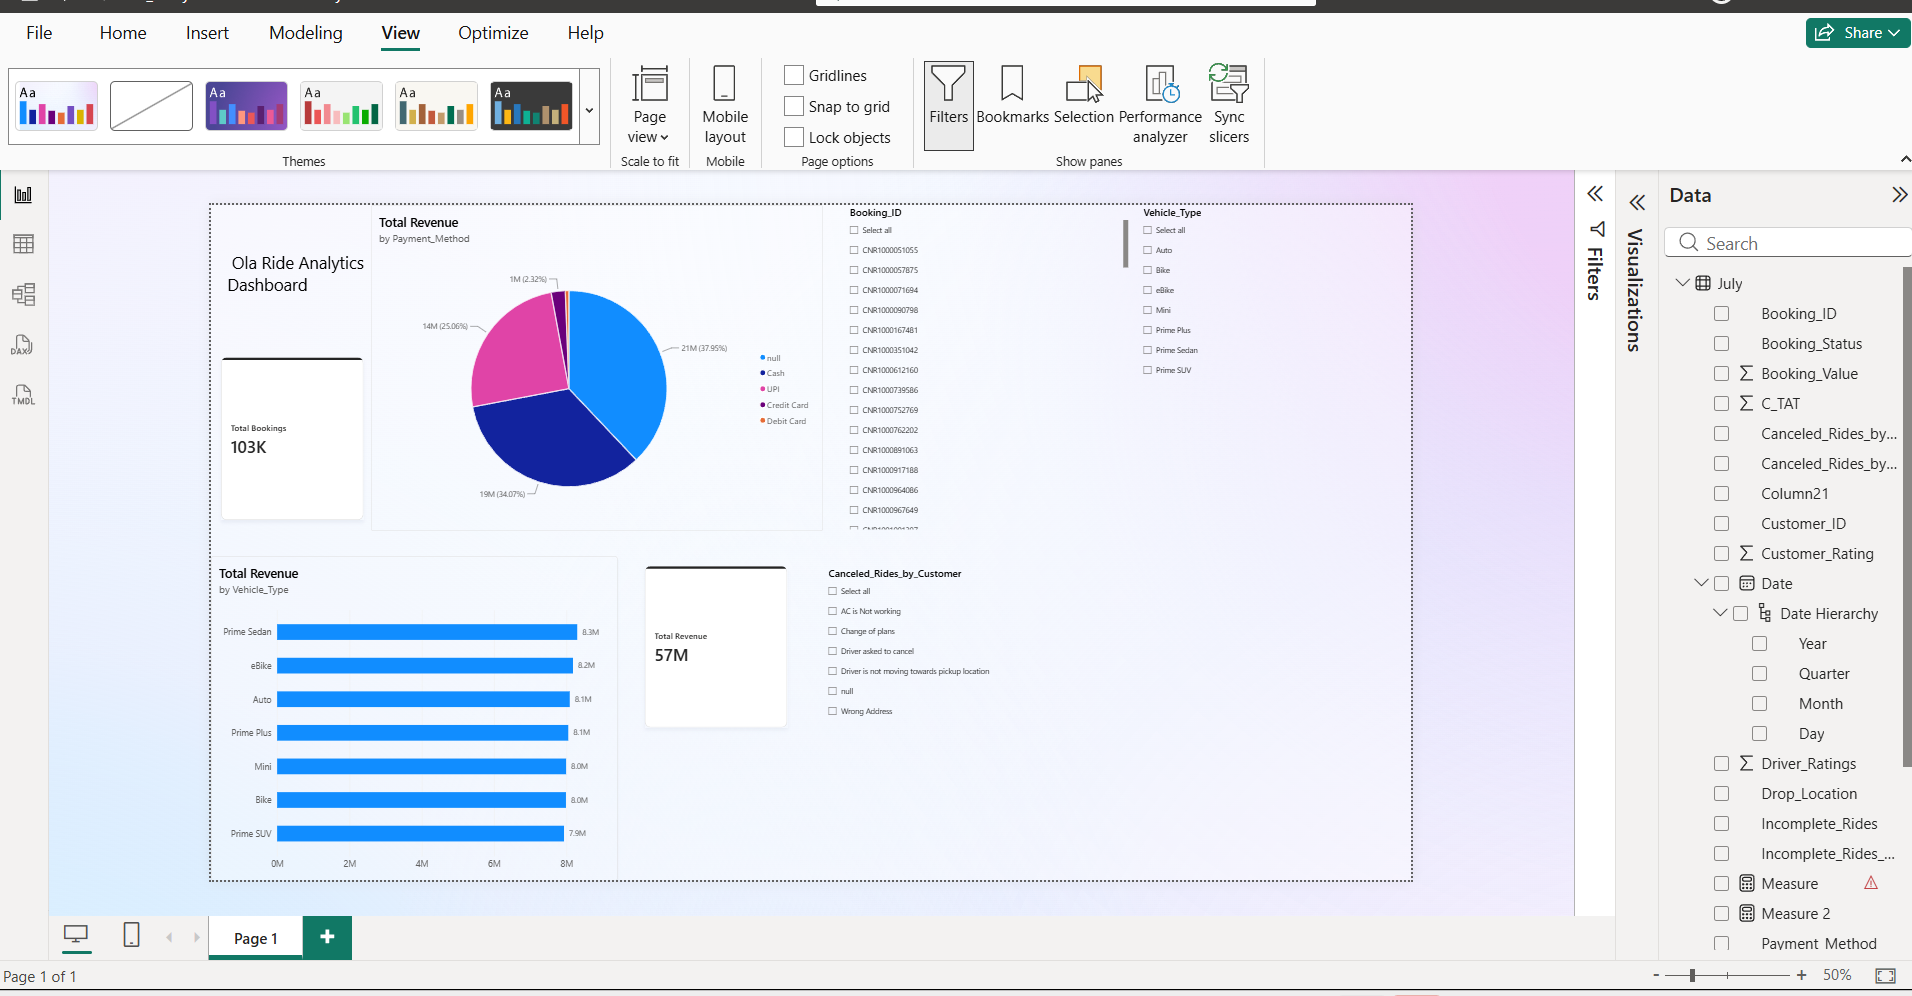

What the dashboard file says about the page in this screenshot:
{"tool":"powerbi","page":{"name":"Page 1","canvas":[1920,1080],"ordinal":0},"visuals":[{"type":"cardVisual","fields":{"Data":["July.Total Revenue"]},"box":[693.1,578.7,228.9,258.6],"z":0},{"type":"cardVisual","fields":{"Data":["July.Total Bookings"]},"box":[17,243.8,228.9,260.7],"z":1000},{"type":"clusteredBarChart","fields":{"Y":["July.Total Revenue"],"Category":["July.Vehicle_Type"]},"box":[0,561.7,650.7,519.3],"z":2000},{"type":"pieChart","fields":{"Y":["July.Total Revenue"],"Category":["July.Payment_Method"]},"box":[256.5,0,722.8,521.4],"z":3000},{"type":"slicer","fields":{"Values":["July.Booking_ID"]},"box":[1013.2,0,453.6,519.3],"z":4000},{"type":"slicer","fields":{"Values":["July.Vehicle_Type"]},"box":[1483.8,0,436.7,303.1],"z":5000},{"type":"textbox","box":[25.4,74.2,220.4,78.4],"z":6000},{"type":"slicer","fields":{"Values":["July.Canceled_Rides_by_Customer"]},"box":[979.3,578.7,557.5,479],"z":7000}]}

Visuals, with their boxes on the page's 1920x1080 design canvas (x1, y1, x2, y2). These are canvas units, not pixel positions in the 1912x996 screenshot, which may show the page scaled, cropped or inside an application window:
cardVisual - July.Total Revenue: bbox=[693, 579, 922, 837]
cardVisual - July.Total Bookings: bbox=[17, 244, 246, 504]
clusteredBarChart - July.Total Revenue x July.Vehicle_Type: bbox=[0, 562, 651, 1081]
pieChart - July.Total Revenue x July.Payment_Method: bbox=[256, 0, 979, 521]
slicer - July.Booking_ID: bbox=[1013, 0, 1467, 519]
slicer - July.Vehicle_Type: bbox=[1484, 0, 1920, 303]
textbox: bbox=[25, 74, 246, 153]
slicer - July.Canceled_Rides_by_Customer: bbox=[979, 579, 1537, 1058]
